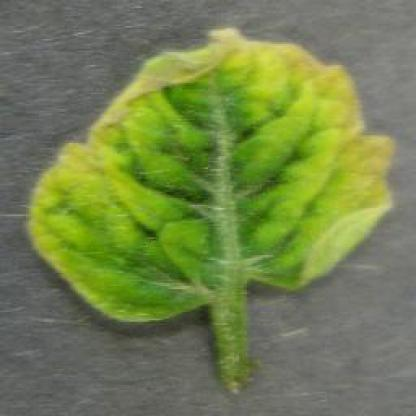bad leaf: (32, 29, 382, 363)
